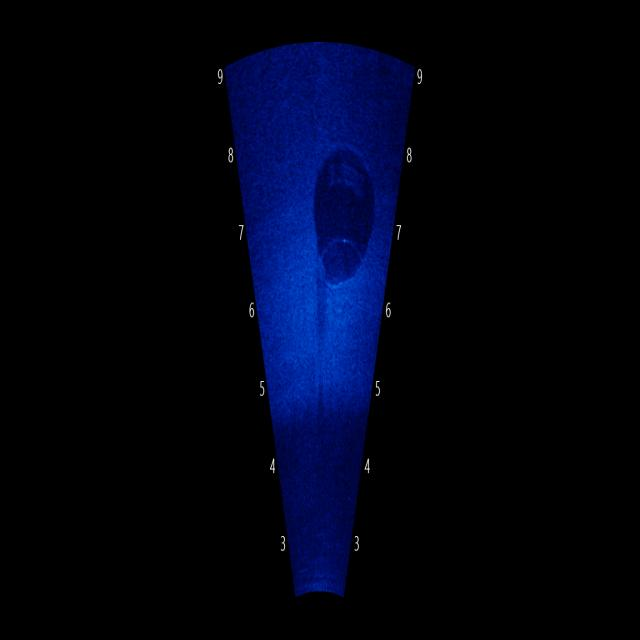circle: (306, 134, 382, 298)
